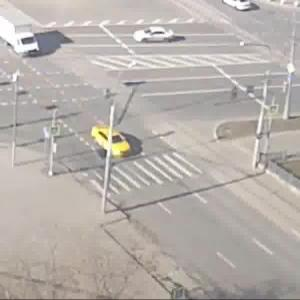car: (1, 2, 44, 55), (89, 124, 137, 156), (129, 26, 175, 47), (228, 1, 253, 13)
